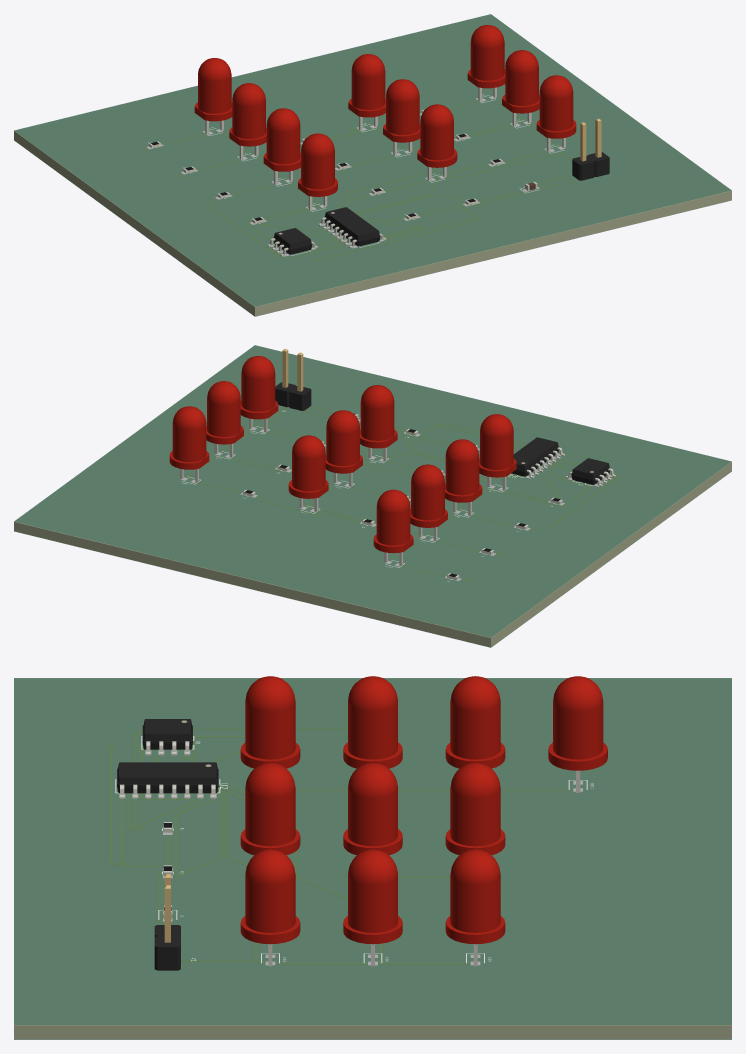
File: chaser-4017.glb
3 views of the same model, one above another, from view 1: azimuth 30°, elevation 25°; view 2: azimuth 150°, elevation 25°; view 3: azimuth 270°, elevation 25° (orthographic). The views are drawn at different scales.
Visible parts, largest first — view 1: =>[0:1:1:20], =>[0:1:1:18], =>[0:1:1:13] (×10), =>[0:1:1:5], =>[0:1:1:11], =>[0:1:1:3], =>[0:1:1:15], =>[0:1:1:19], =>[0:1:1:14]; view 2: =>[0:1:1:20], =>[0:1:1:18], =>[0:1:1:13] (×10), =>[0:1:1:11], =>[0:1:1:5], =>[0:1:1:3], =>[0:1:1:19], =>[0:1:1:15], =>[0:1:1:14]; view 3: =>[0:1:1:20], =>[0:1:1:18], =>[0:1:1:13] (×10), =>[0:1:1:5], =>[0:1:1:14], =>[0:1:1:3], =>[0:1:1:11], =>[0:1:1:19].
Boxes of the visible parts, bbox=[...] form: =>[0:1:1:20]: bbox=[14, 15, 731, 316]; =>[0:1:1:18]: bbox=[14, 14, 731, 306]; =>[0:1:1:13] (×10): bbox=[194, 25, 576, 209]; =>[0:1:1:5]: bbox=[318, 207, 386, 248]; =>[0:1:1:11]: bbox=[572, 118, 609, 180]; =>[0:1:1:3]: bbox=[267, 228, 317, 256]; =>[0:1:1:15]: bbox=[146, 96, 564, 256]; =>[0:1:1:19]: bbox=[14, 140, 731, 316]; =>[0:1:1:14]: bbox=[141, 100, 576, 260]; =>[0:1:1:20]: bbox=[14, 346, 731, 647]; =>[0:1:1:18]: bbox=[14, 345, 731, 637]; =>[0:1:1:13] (×10): bbox=[169, 356, 516, 566]; =>[0:1:1:11]: bbox=[275, 349, 311, 410]; =>[0:1:1:5]: bbox=[511, 437, 565, 478]; =>[0:1:1:3]: bbox=[565, 458, 615, 486]; =>[0:1:1:19]: bbox=[14, 471, 731, 647]; =>[0:1:1:15]: bbox=[181, 419, 612, 581]; =>[0:1:1:14]: bbox=[187, 407, 617, 580]; =>[0:1:1:20]: bbox=[14, 679, 731, 1039]; =>[0:1:1:18]: bbox=[14, 678, 731, 1024]; =>[0:1:1:13] (×10): bbox=[240, 676, 607, 966]; =>[0:1:1:5]: bbox=[117, 762, 218, 798]; =>[0:1:1:14]: bbox=[107, 731, 572, 963]; =>[0:1:1:3]: bbox=[142, 719, 192, 755]; =>[0:1:1:11]: bbox=[154, 874, 180, 970]; =>[0:1:1:19]: bbox=[14, 1039, 731, 1039].
Bounding box in the file's own units: 0.08 × 0.0146 × 0.07.
